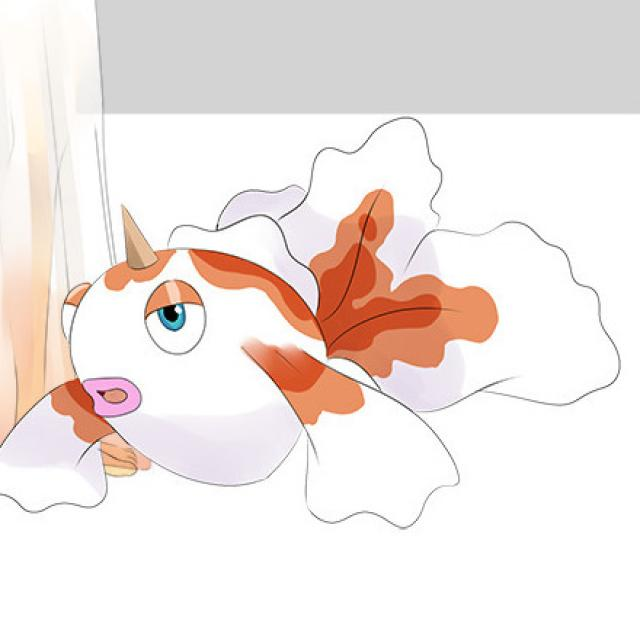Goldeen: (6, 175, 509, 506)
